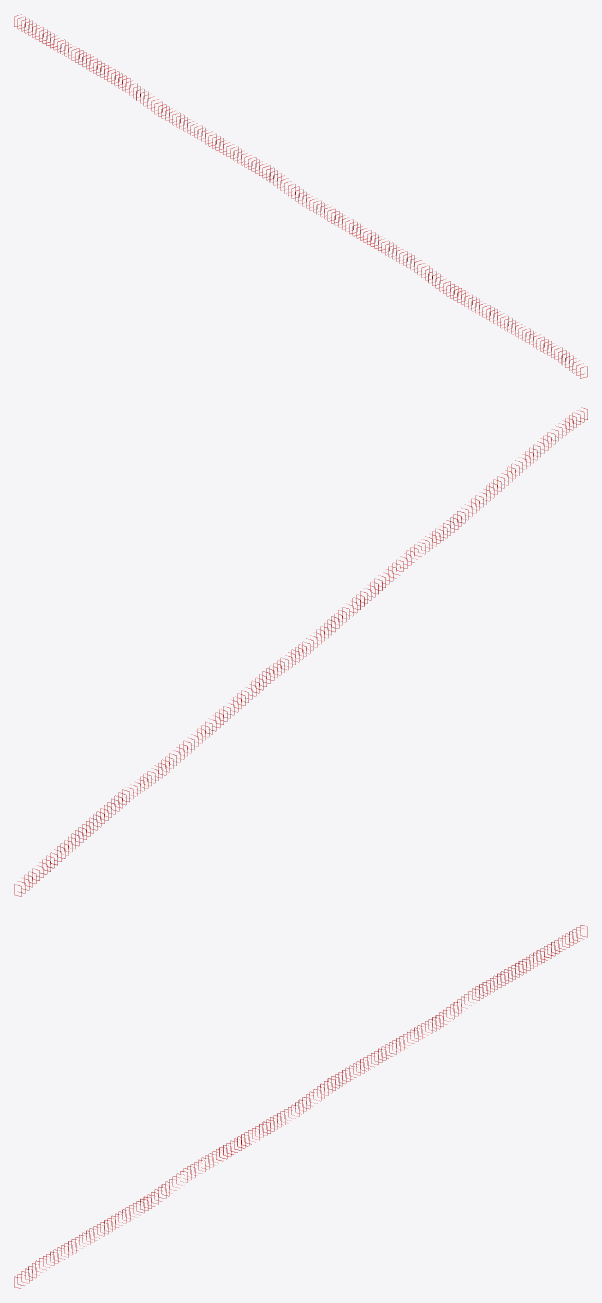
3 views of the same model, one above another, from view 1: azimuth 30°, elevation 25°; view 2: azimuth 150°, elevation 25°; view 3: azimuth 330°, elevation 25° (orthographic).
Visible parts, largest first — view 1: 1IEefD0007334pDparE3Km; view 2: 1IEefD0007334pDparE3Km; view 3: 1IEefD0007334pDparE3Km.
Boxes of the visible parts, box(x1,y1,x2,y2) form: 1IEefD0007334pDparE3Km: box(14, 14, 587, 378); 1IEefD0007334pDparE3Km: box(14, 407, 587, 896); 1IEefD0007334pDparE3Km: box(14, 925, 587, 1288).
Size of the model in its own units: 0.2618 by 2.25 by 31.35.
